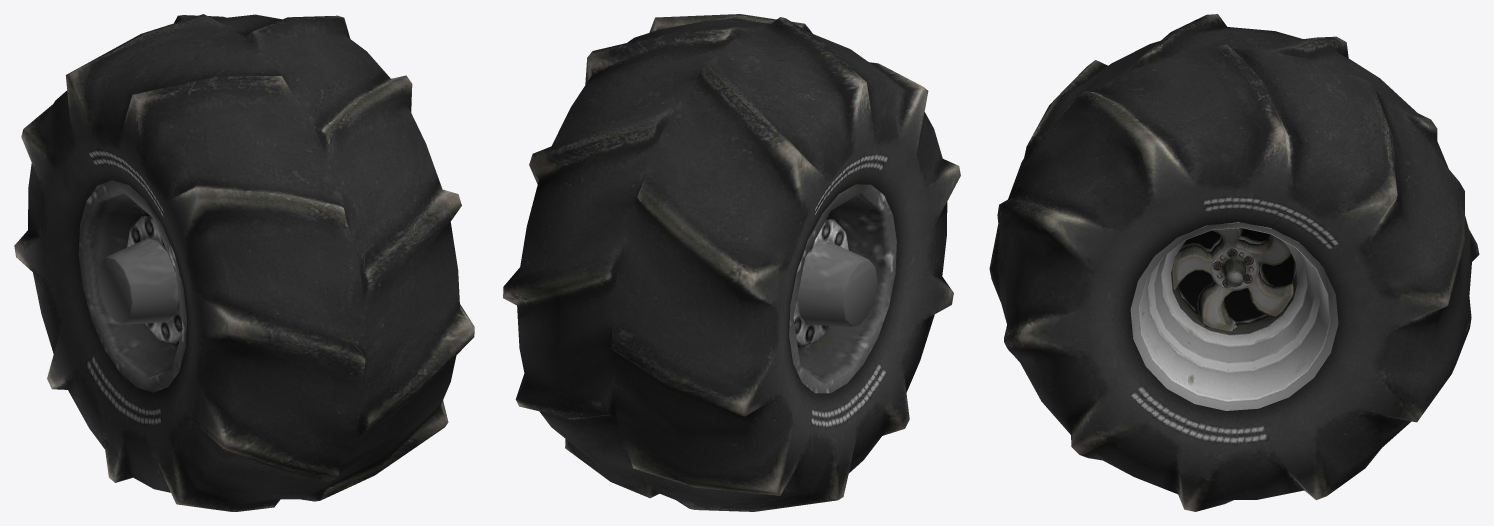
The model's file is Wheel.obj.
3 views of the same model, side by side, from view 1: azimuth 30°, elevation 25°; view 2: azimuth 150°, elevation 25°; view 3: azimuth 270°, elevation 25° (orthographic). The views are drawn at different scales.
Visible parts, largest first — view 1: wheel_FL_pivot_details; view 2: wheel_FL_pivot_details; view 3: wheel_FL_pivot_details.
Boxes of the visible parts, x1,y1,x2,y2 form: wheel_FL_pivot_details: [14, 14, 474, 511]; wheel_FL_pivot_details: [503, 14, 960, 511]; wheel_FL_pivot_details: [989, 14, 1479, 511].
Bounding box in the file's own units: 0.9101 × 1.59 × 1.59.
Materials: 2 (2 with a texture image).
